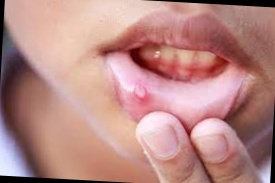Ulcer: (131, 79, 148, 100)
